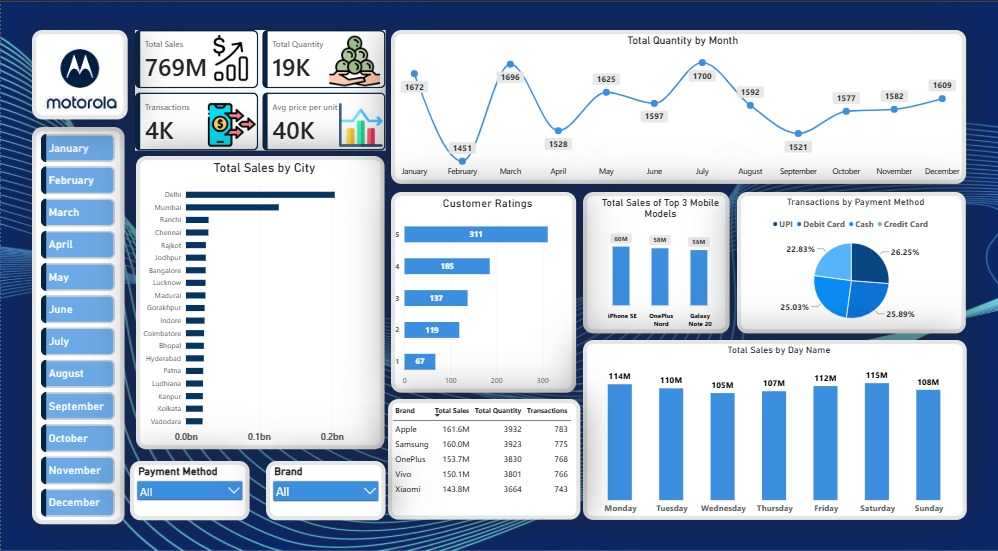

This screenshot's page, from the dashboard's own definition file:
{"tool":"powerbi","page":{"name":"Page 1","canvas":[1920,1080],"ordinal":0},"visuals":[{"type":"shape","box":[59.6,247.5,178,764],"z":0,"group":"g1"},{"type":"cardVisual","fields":{"Data":["Sales_Data.Total Sales","Sales_Data.Total Quantity","Sales_Data.Transactions","Sales_Data.Average"]},"box":[257.6,61.5,482,232],"z":1000,"group":"g1"},{"type":"advancedSlicerVisual","fields":{"Values":["Sheet1.Date.Variation.Date Hierarchy.Month"]},"box":[77.6,261.5,142,736],"z":2000,"group":"g1"},{"type":"shape","box":[59.6,61.5,184,172],"z":3000,"group":"g1"},{"type":"image","box":[371.6,71.5,140,94],"z":4000,"group":"g1"},{"type":"image","box":[593.6,69.5,172,104],"z":5000,"group":"g1"},{"type":"image","box":[379.6,197.5,130,92],"z":6000,"group":"g1"},{"type":"image","box":[649.6,197.5,84,92],"z":7000,"group":"g1"},{"type":"barChart","fields":{"Category":["Sales_Data.City"],"Y":["Sales_Data.Total Sales"]},"box":[259.6,303.5,478,564],"z":8000,"group":"g1"},{"type":"lineChart","title":"Total Quantity by Month","fields":{"Category":["Sales_Data.Date.Variation.Date Hierarchy.Month","Sales_Data.Date.Variation.Date Hierarchy.Day"],"Y":["Sales_Data.Total Quantity"]},"box":[749.6,61.5,1106,296],"z":9000,"group":"g1"},{"type":"columnChart","title":"Total Sales of Top 3 Mobile Models","fields":{"Category":["Sales_Data.Mobile Model"],"Y":["Sales_Data.Total Sales"]},"box":[1119.6,373.5,282,272],"z":10000,"group":"g1"},{"type":"pieChart","title":"Transactions by Payment Method","fields":{"Category":["Sales_Data.Payment Method"],"Y":["Sales_Data.Transactions"]},"box":[1415.6,373.5,440,272],"z":11000,"group":"g1"},{"type":"barChart","title":"Customer Ratings","fields":{"Category":["Sales_Data.Customer Ratings"],"Y":["CountNonNull(Sales_Data.Customer Ratings)"]},"box":[749.6,373.5,356,386],"z":12000,"group":"g1"},{"type":"clusteredColumnChart","fields":{"Category":["Sales_Data.Day Name"],"Y":["Sales_Data.Total Sales"]},"box":[1119.6,657.5,738,346],"z":13000,"group":"g1"},{"type":"tableEx","fields":{"Values":["Sales_Data.Brand","Sales_Data.Total Sales","Sales_Data.Total Quantity","Sales_Data.Transactions"]},"box":[743.6,771.5,370,232],"z":14000,"group":"g1"},{"type":"slicer","fields":{"Values":["Sales_Data.Payment Method"]},"box":[247.6,889.5,230,114],"z":15000,"group":"g1"},{"type":"slicer","fields":{"Values":["Sales_Data.Brand"]},"box":[509.6,889.5,230,114],"z":16000,"group":"g1"},{"type":"image","box":[59.6,61.5,184,148],"z":17000,"group":"g1"},{"type":"image","box":[73.6,187.5,162,28],"z":18000,"group":"g1"},{"type":"group","id":"g1","title":"Group 1","box":[59.6,61.5,1798.1,950],"z":18001}]}

Visuals, with their boxes in screenshot pixels (x1, y1, x2, y2), scaled from the page's 1920x1080 canvas onto the 998x551 screenshot:
shape: select_region(31, 126, 124, 516)
cardVisual - Sales_Data.Total Sales x Sales_Data.Total Quantity: select_region(134, 31, 384, 150)
advancedSlicerVisual - Sheet1.Date.Variation.Date Hierarchy.Month: select_region(40, 133, 114, 509)
shape: select_region(31, 31, 127, 119)
image: select_region(193, 36, 266, 84)
image: select_region(309, 35, 398, 89)
image: select_region(197, 101, 265, 148)
image: select_region(338, 101, 381, 148)
barChart - Sales_Data.City x Sales_Data.Total Sales: select_region(135, 155, 383, 443)
"Total Quantity by Month" lineChart: select_region(390, 31, 965, 182)
"Total Sales of Top 3 Mobile Models" columnChart: select_region(582, 191, 729, 329)
"Transactions by Payment Method" pieChart: select_region(736, 191, 965, 329)
"Customer Ratings" barChart: select_region(390, 191, 575, 387)
clusteredColumnChart - Sales_Data.Day Name x Sales_Data.Total Sales: select_region(582, 335, 966, 512)
tableEx - Sales_Data.Brand x Sales_Data.Total Sales: select_region(387, 394, 579, 512)
slicer - Sales_Data.Payment Method: select_region(129, 454, 248, 512)
slicer - Sales_Data.Brand: select_region(265, 454, 384, 512)
image: select_region(31, 31, 127, 107)
image: select_region(38, 96, 122, 110)
"Group 1" group: select_region(31, 31, 966, 516)
